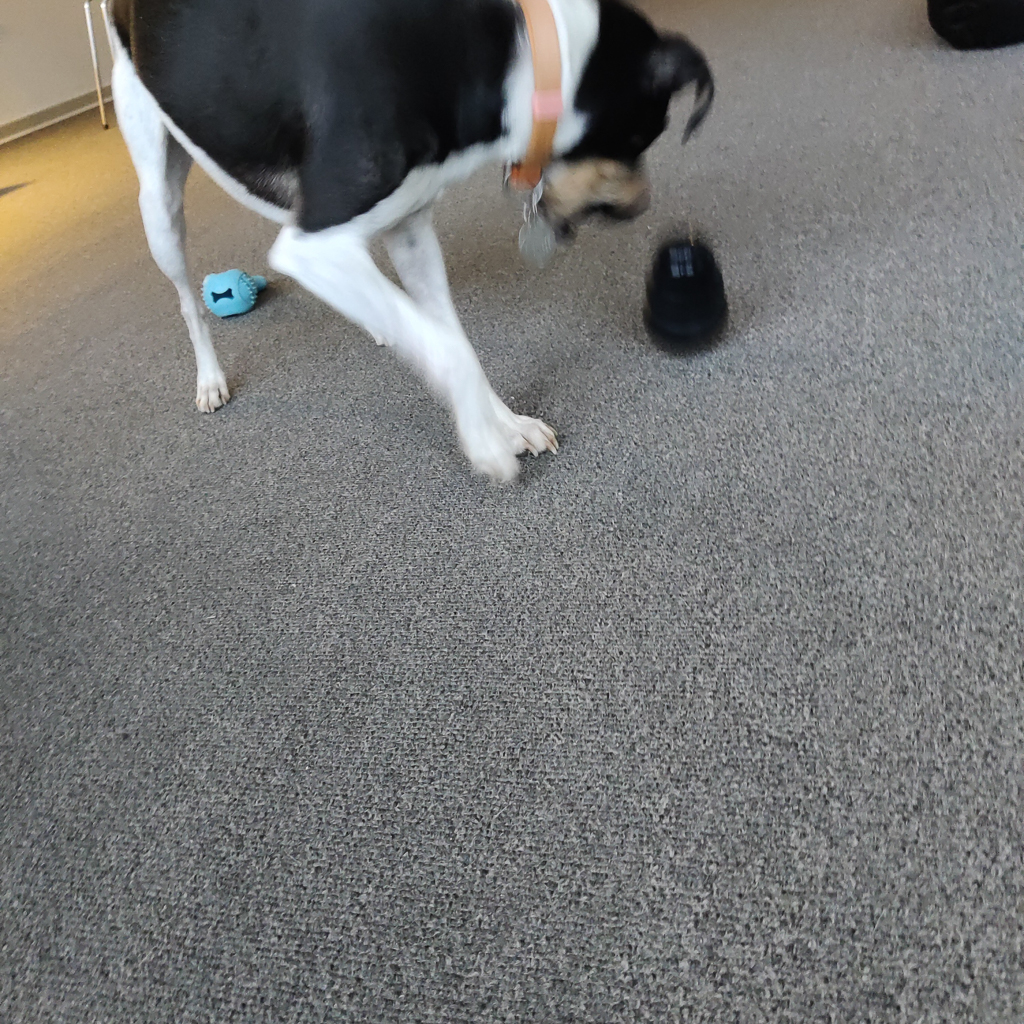Dog: (86, 0, 728, 501)
